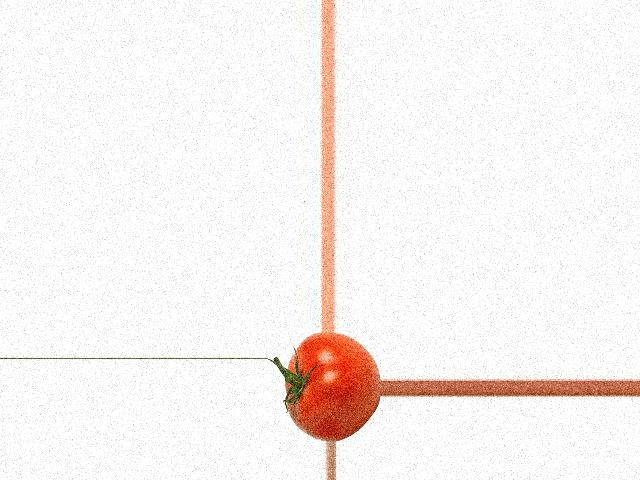tomato: (284, 332, 379, 442)
